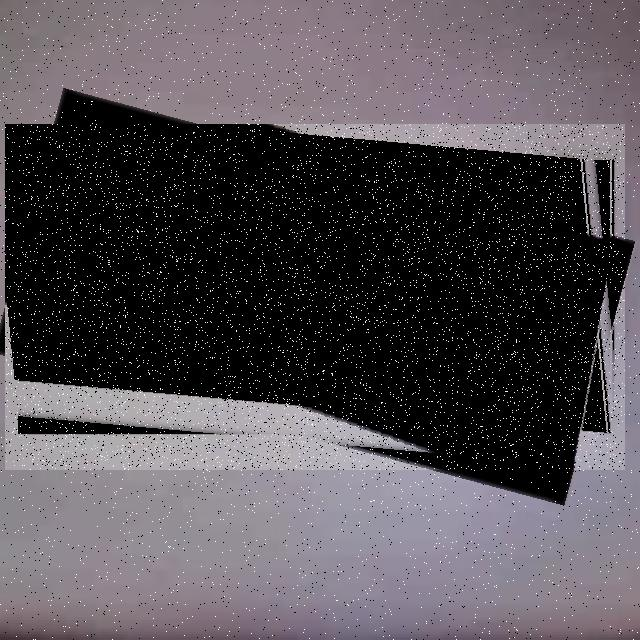lima puluh ribu rupiah: (5, 123, 625, 470)
